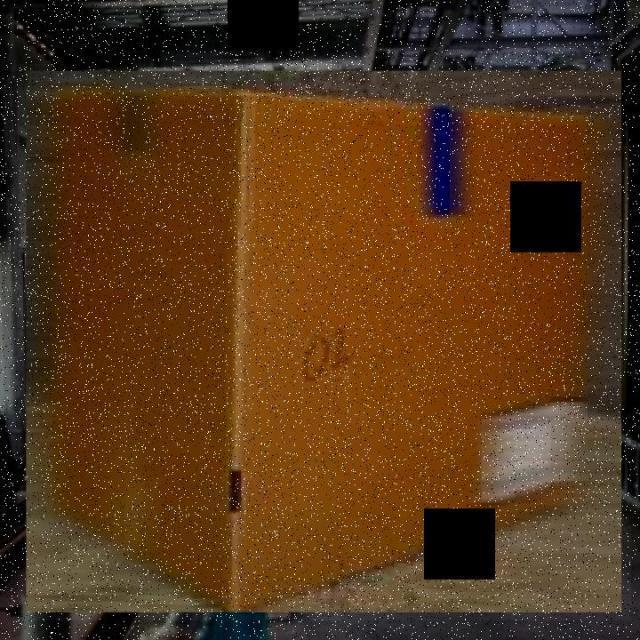box: (18, 64, 632, 620)
